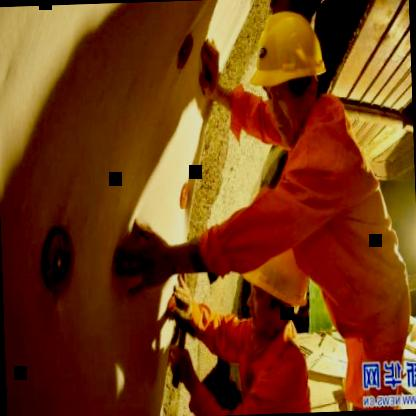helmet: (243, 0, 338, 144), (239, 250, 313, 345)
